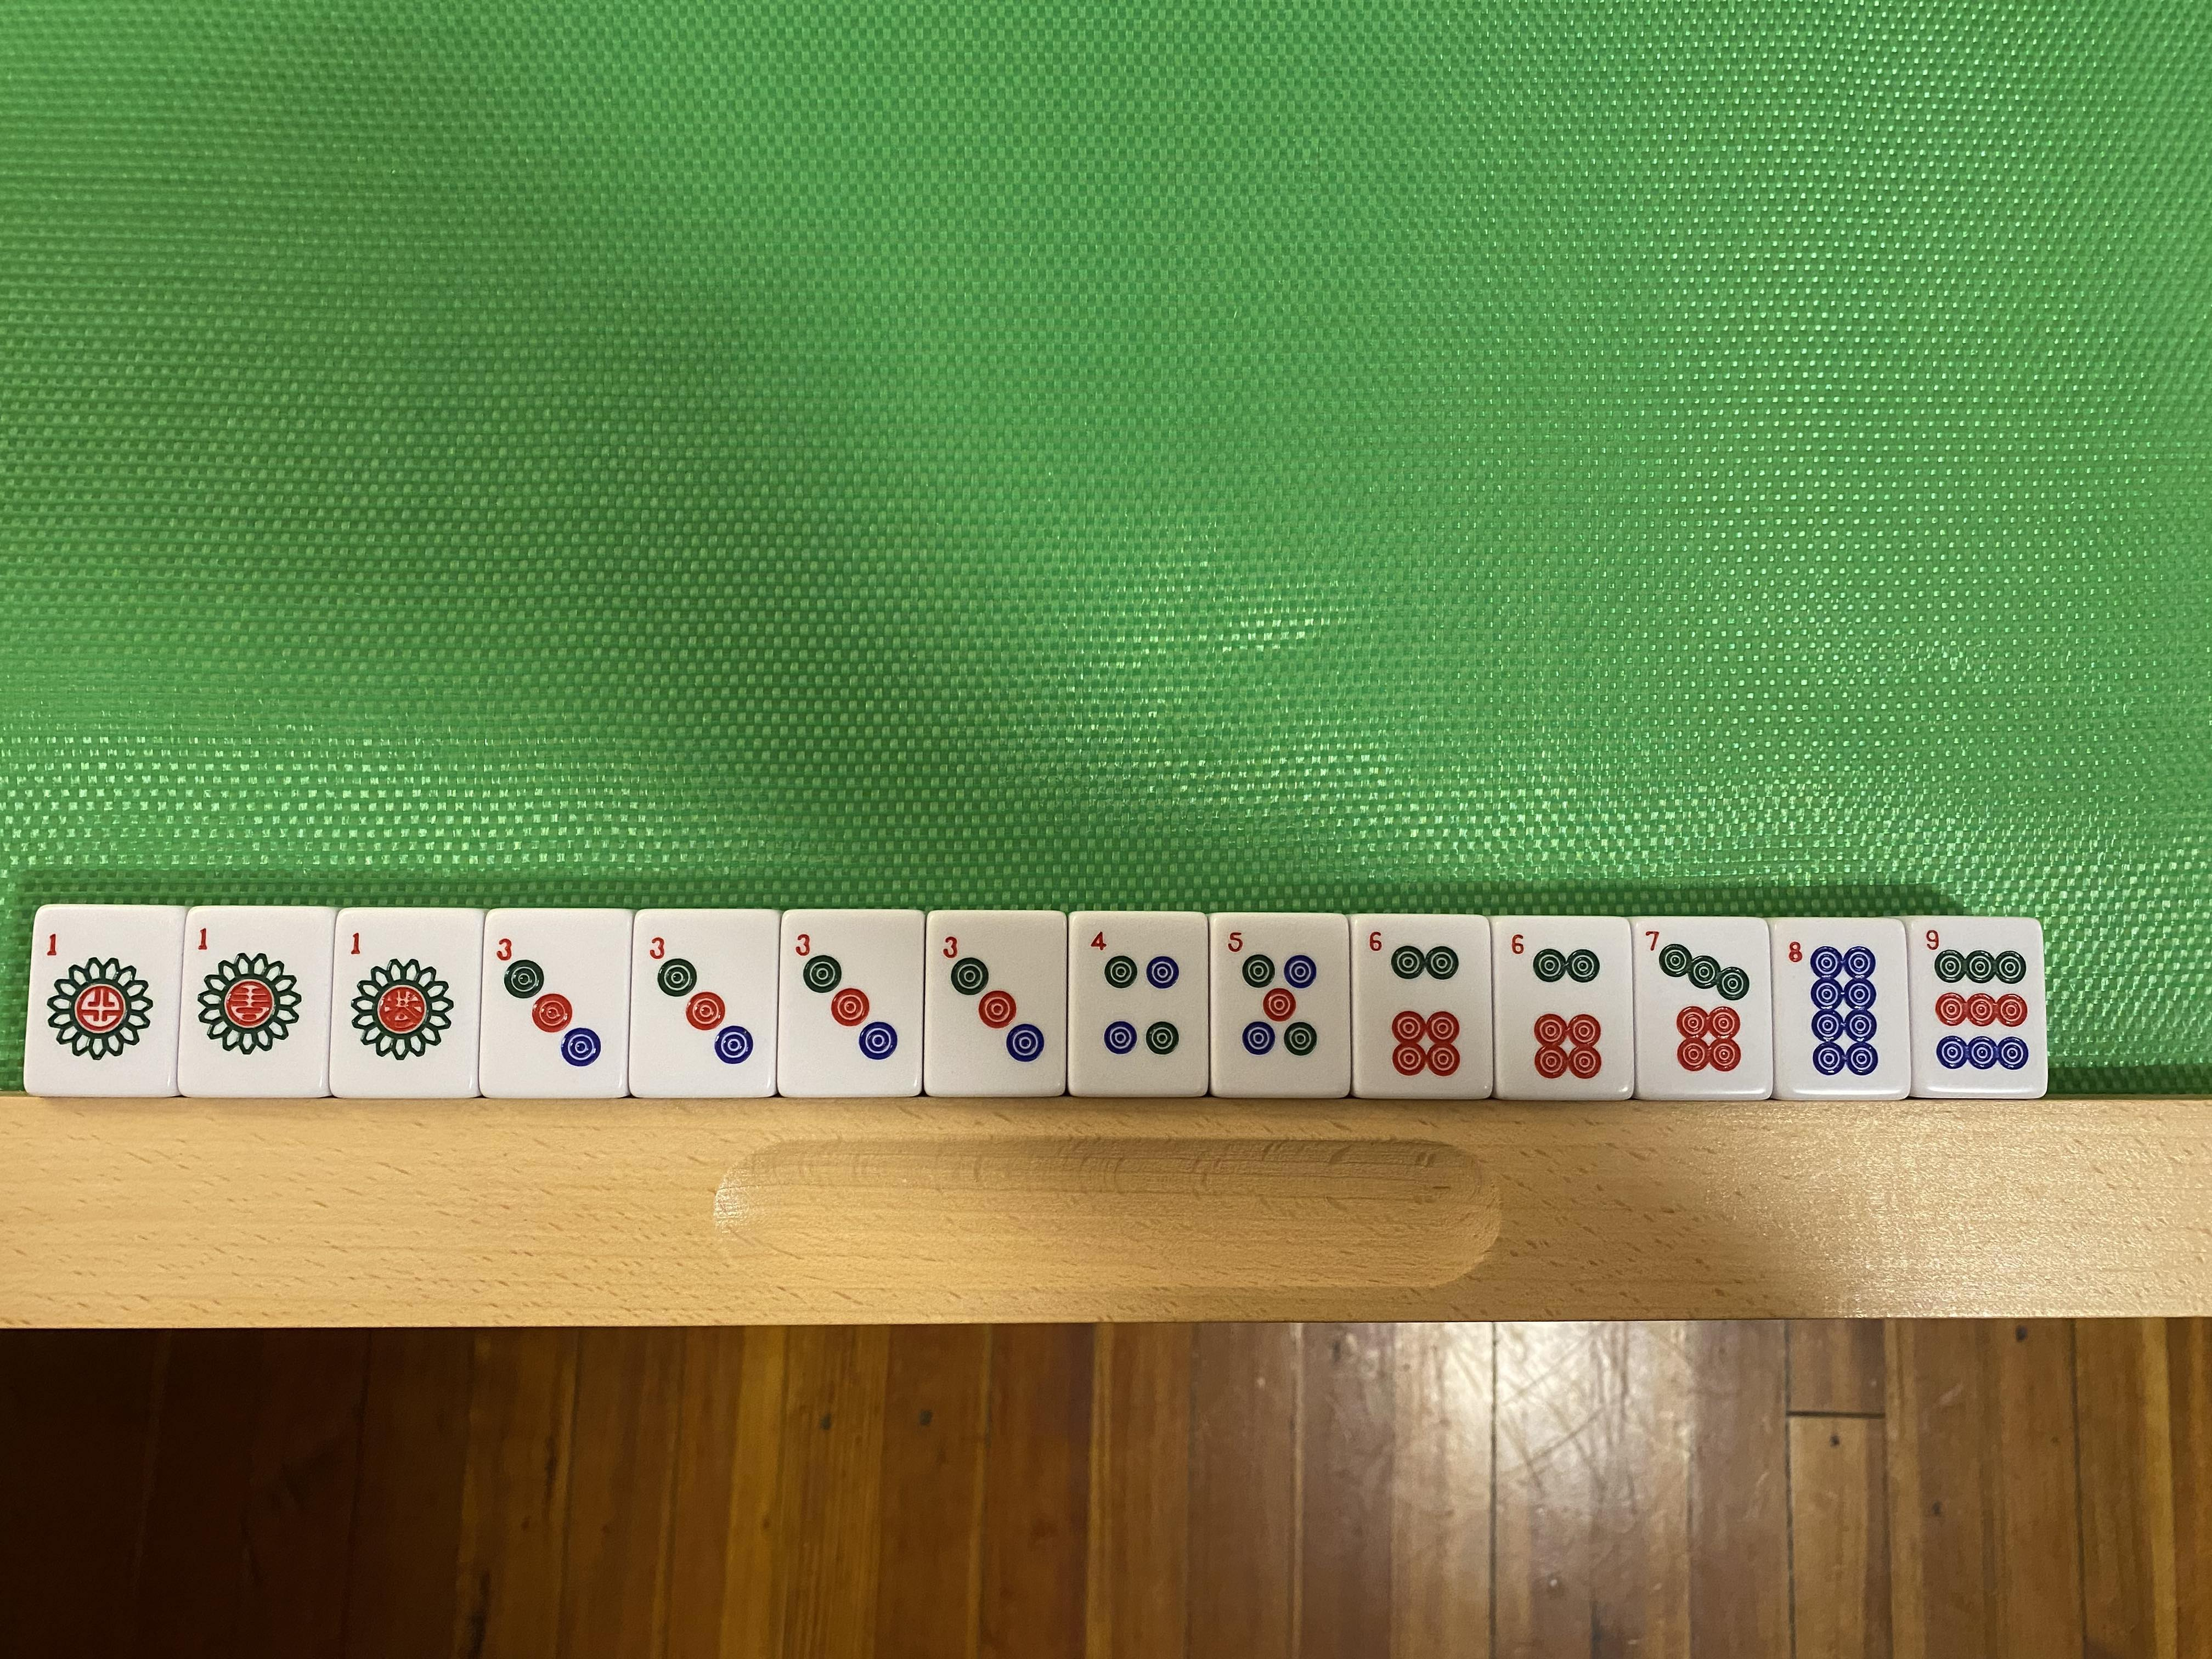circle-eight: (1778, 920, 1904, 1091)
circle-five: (1212, 915, 1350, 1093)
circle-four: (1071, 911, 1209, 1093)
circle-nine: (1916, 922, 2041, 1094)
circle-one: (333, 911, 481, 1096), (185, 910, 333, 1094), (33, 910, 183, 1091)
circle-seven: (1637, 922, 1766, 1093)
circle-six: (1355, 918, 1489, 1096), (1498, 922, 1632, 1093)
circle-three: (482, 913, 631, 1100), (634, 911, 775, 1096), (780, 913, 923, 1093), (927, 913, 1066, 1094)
